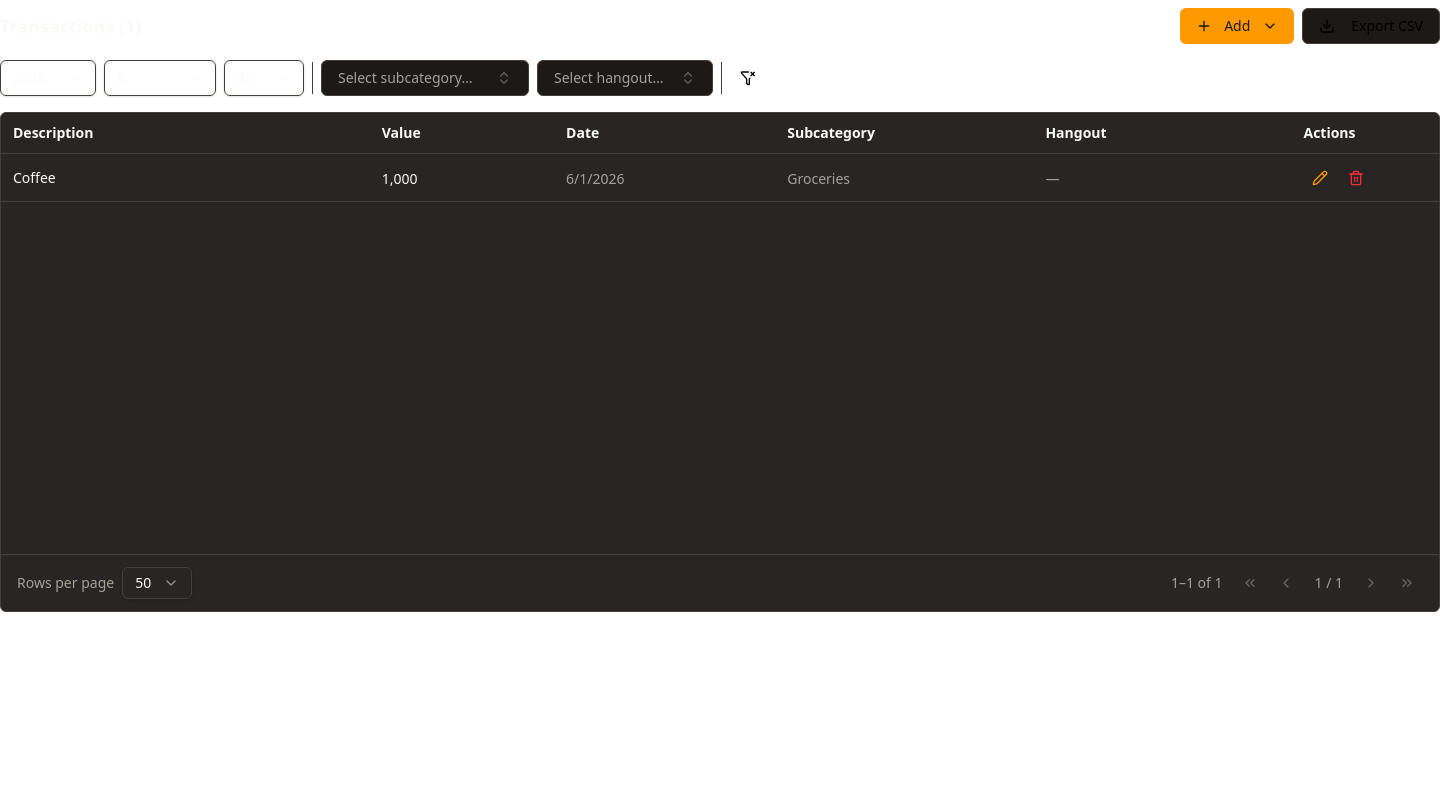
Test: Transactions screen › edit flow: edit button opens dialog with prefilled data
Click the button named "edit transaction coffee" at (1320, 178), box 1304,162 -> 1336,194
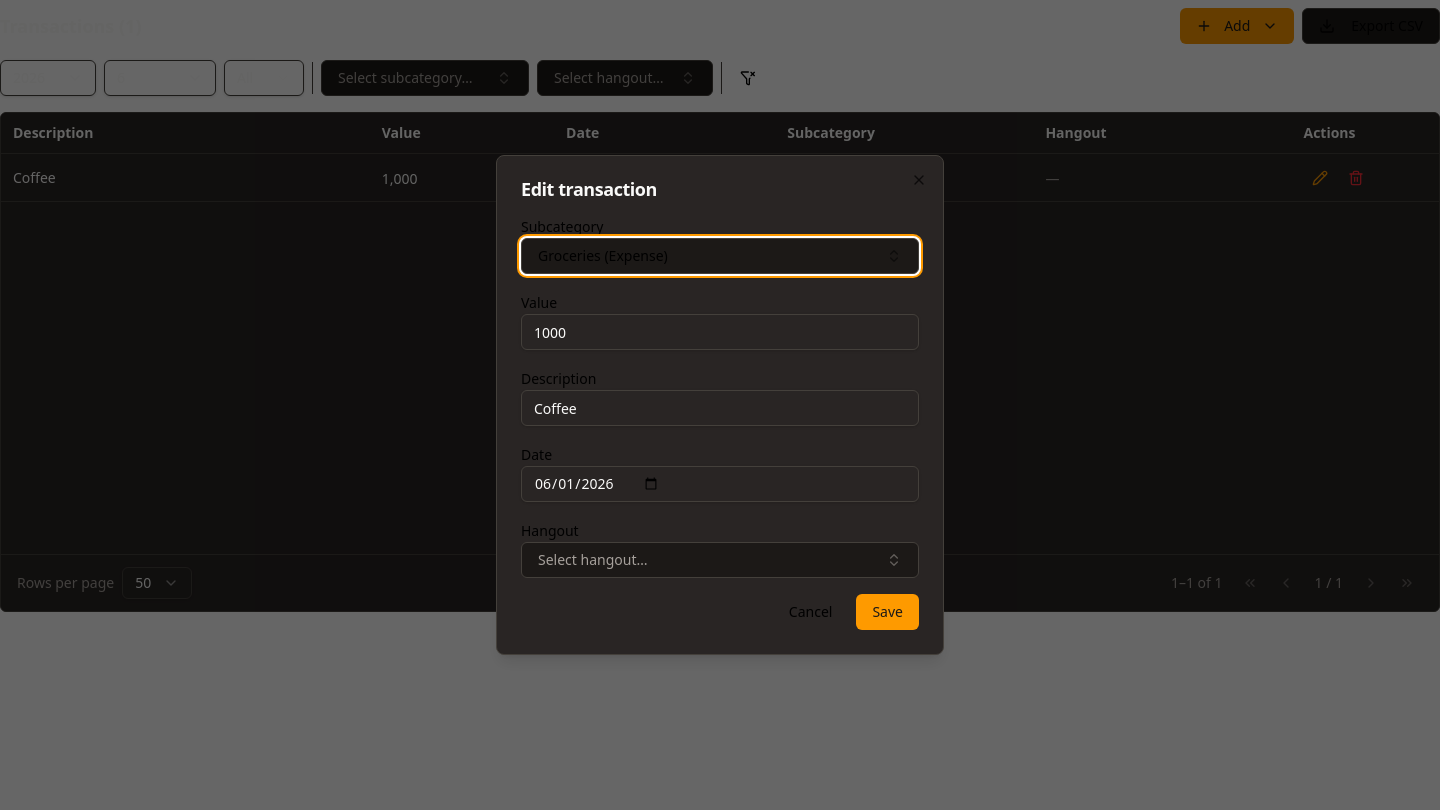
Check: the dialog "Edit transaction" is shown, box 496,155 -> 944,655
Check: the field labelled "Description" holds "Coffee", box 521,390 -> 919,426
